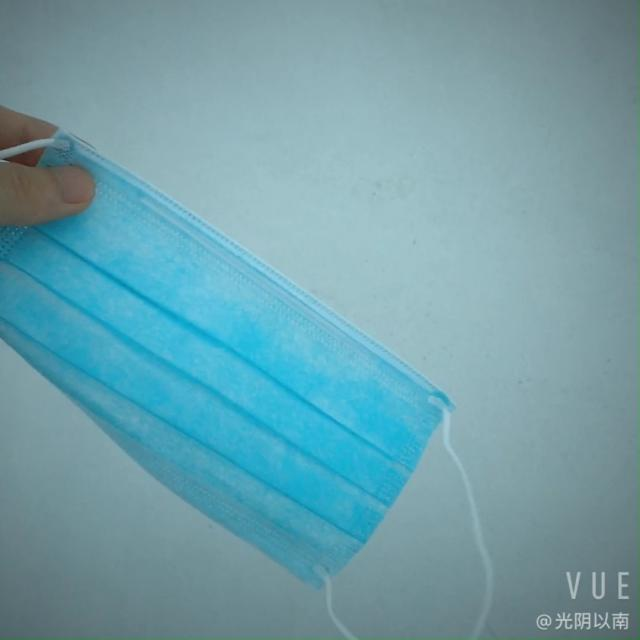non-organic waste: (9, 151, 467, 570)
